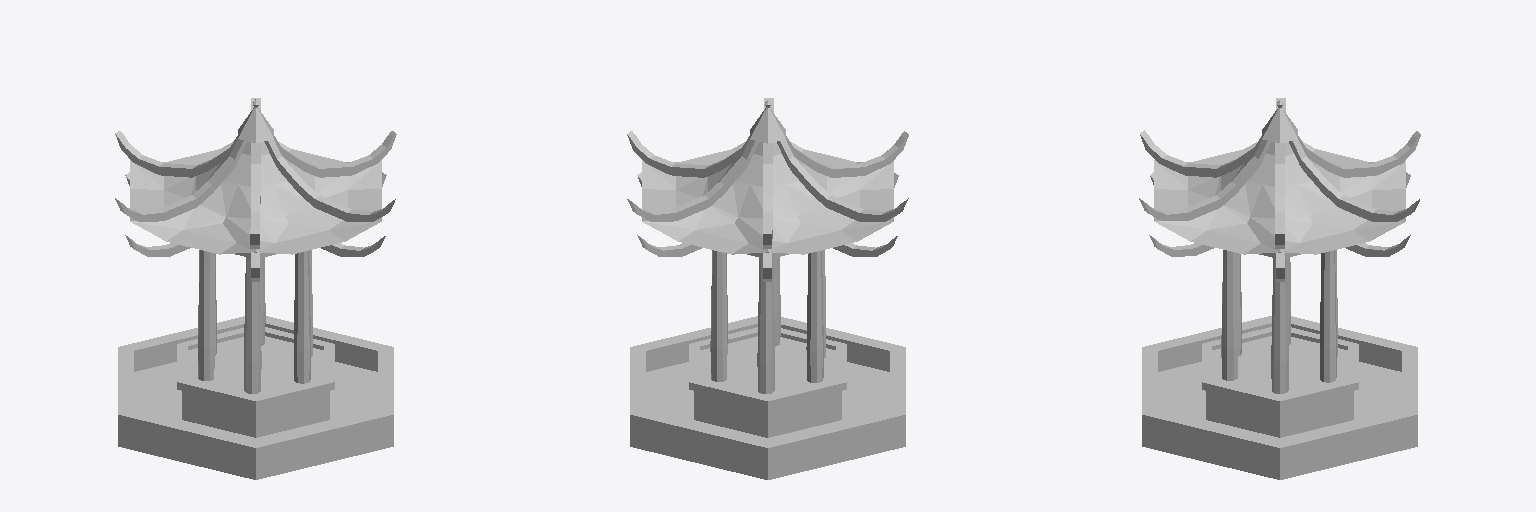
The model's file is temple.obj.
The picture shows the model from 3 angles: view 1: azimuth 30°, elevation 25°; view 2: azimuth 150°, elevation 25°; view 3: azimuth 270°, elevation 25°; orthographic projection.
Visible parts, largest first — view 1: pCube9; view 2: pCube9; view 3: pCube9.
Part boxes in pixels (bbox=[...]): pCube9: bbox=[115, 98, 396, 479]; pCube9: bbox=[627, 98, 908, 479]; pCube9: bbox=[1139, 98, 1420, 479].
Size of the model in its own units: 9.41 by 10.18 by 8.31.